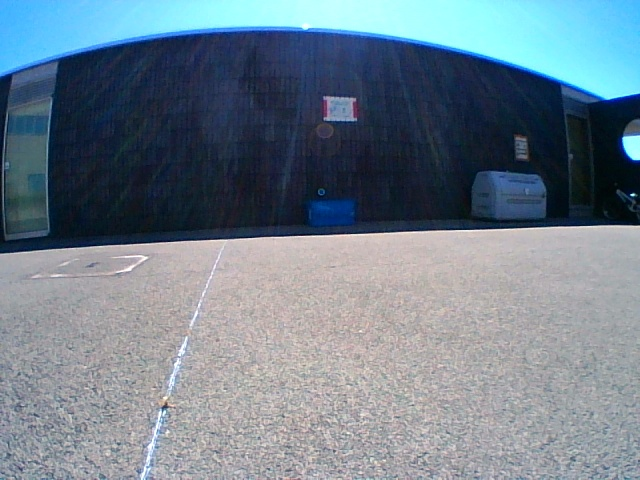blue_box: (308, 201, 354, 226)
